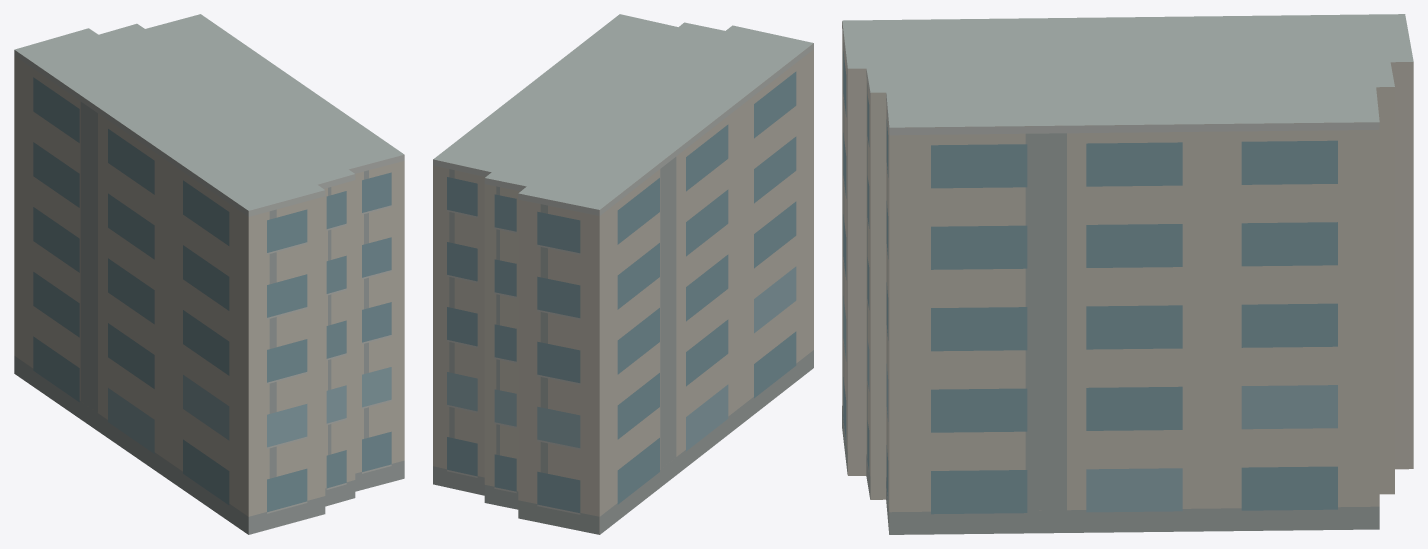
File: survey-upis-32522896.glb
3 renders of one model, left to right at view 1: azimuth 30°, elevation 25°; view 2: azimuth 150°, elevation 25°; view 3: azimuth 270°, elevation 25°, orthographic. The views are drawn at different scales.
Parts seen in each view (by area): view 1: survey-upis-32522896.tmp; view 2: survey-upis-32522896.tmp; view 3: survey-upis-32522896.tmp.
Part boxes in pixels (x1=…): survey-upis-32522896.tmp: x1=14, y1=14, x2=404, y2=534; survey-upis-32522896.tmp: x1=433, y1=14, x2=813, y2=534; survey-upis-32522896.tmp: x1=842, y1=14, x2=1413, y2=534.
Bounding box in the file's own units: 7.79 × 13 × 16.54.
